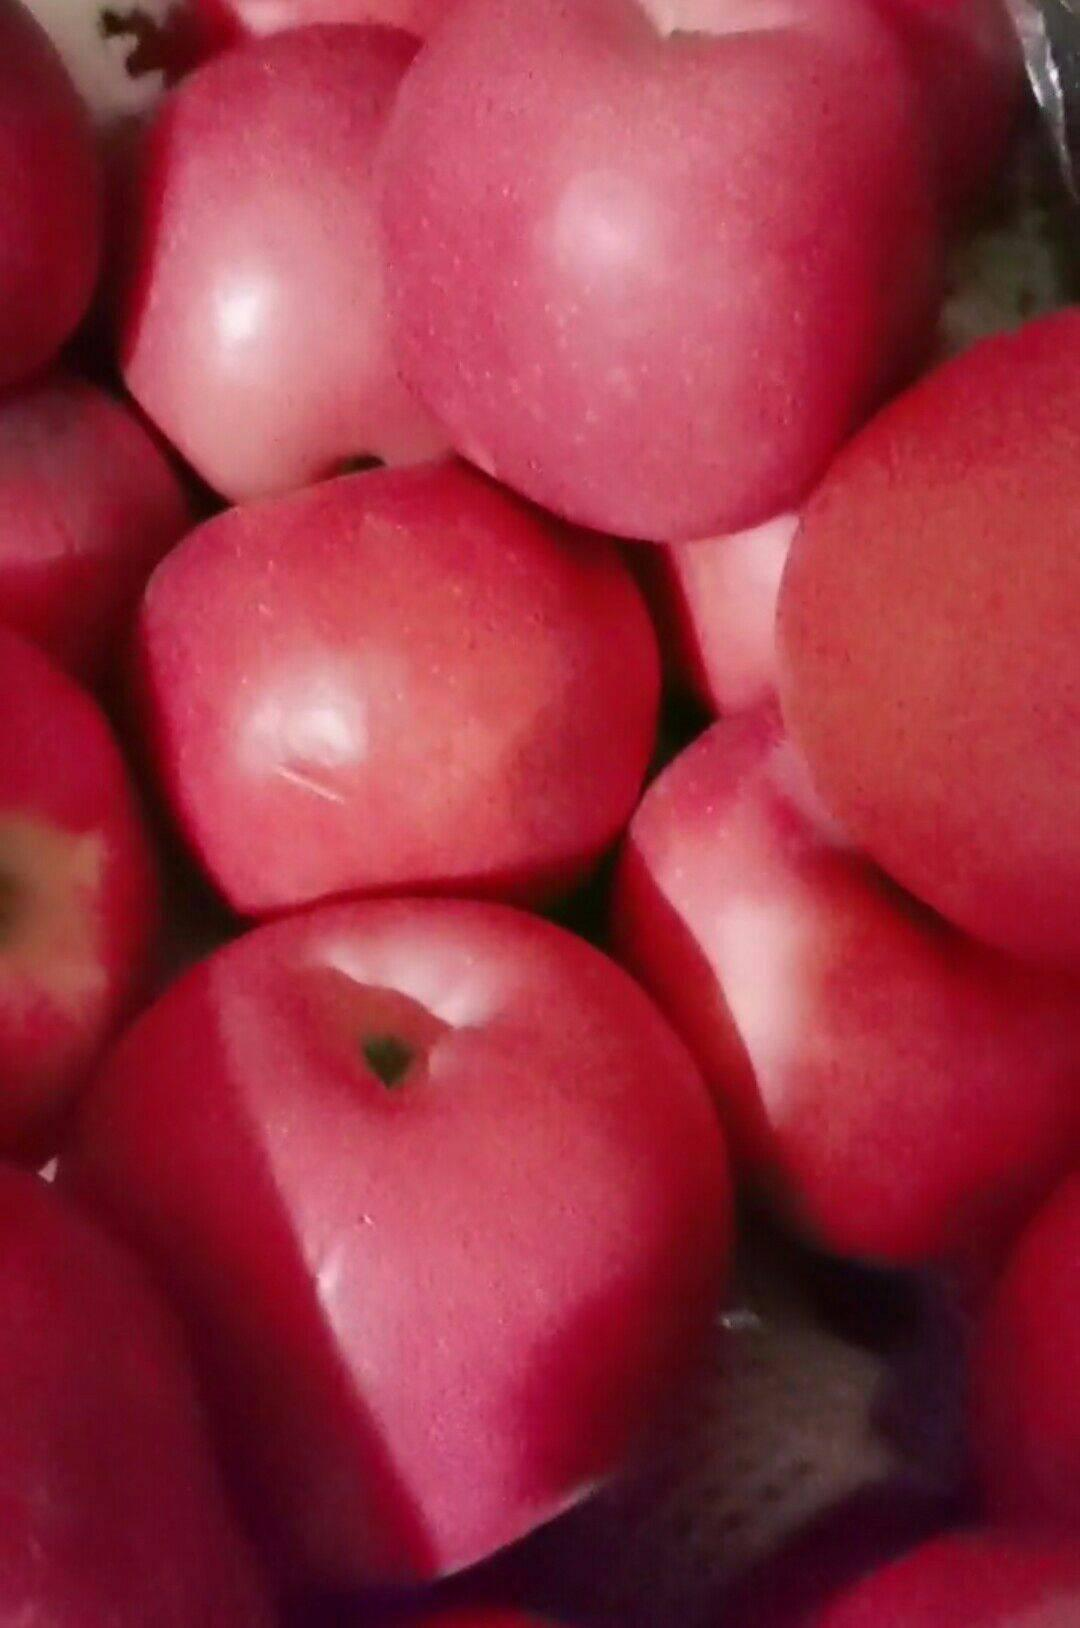apple: (47, 895, 723, 1583), (377, 2, 941, 543), (601, 694, 1069, 1270), (113, 465, 661, 913), (770, 299, 1080, 966), (96, 27, 476, 501)
